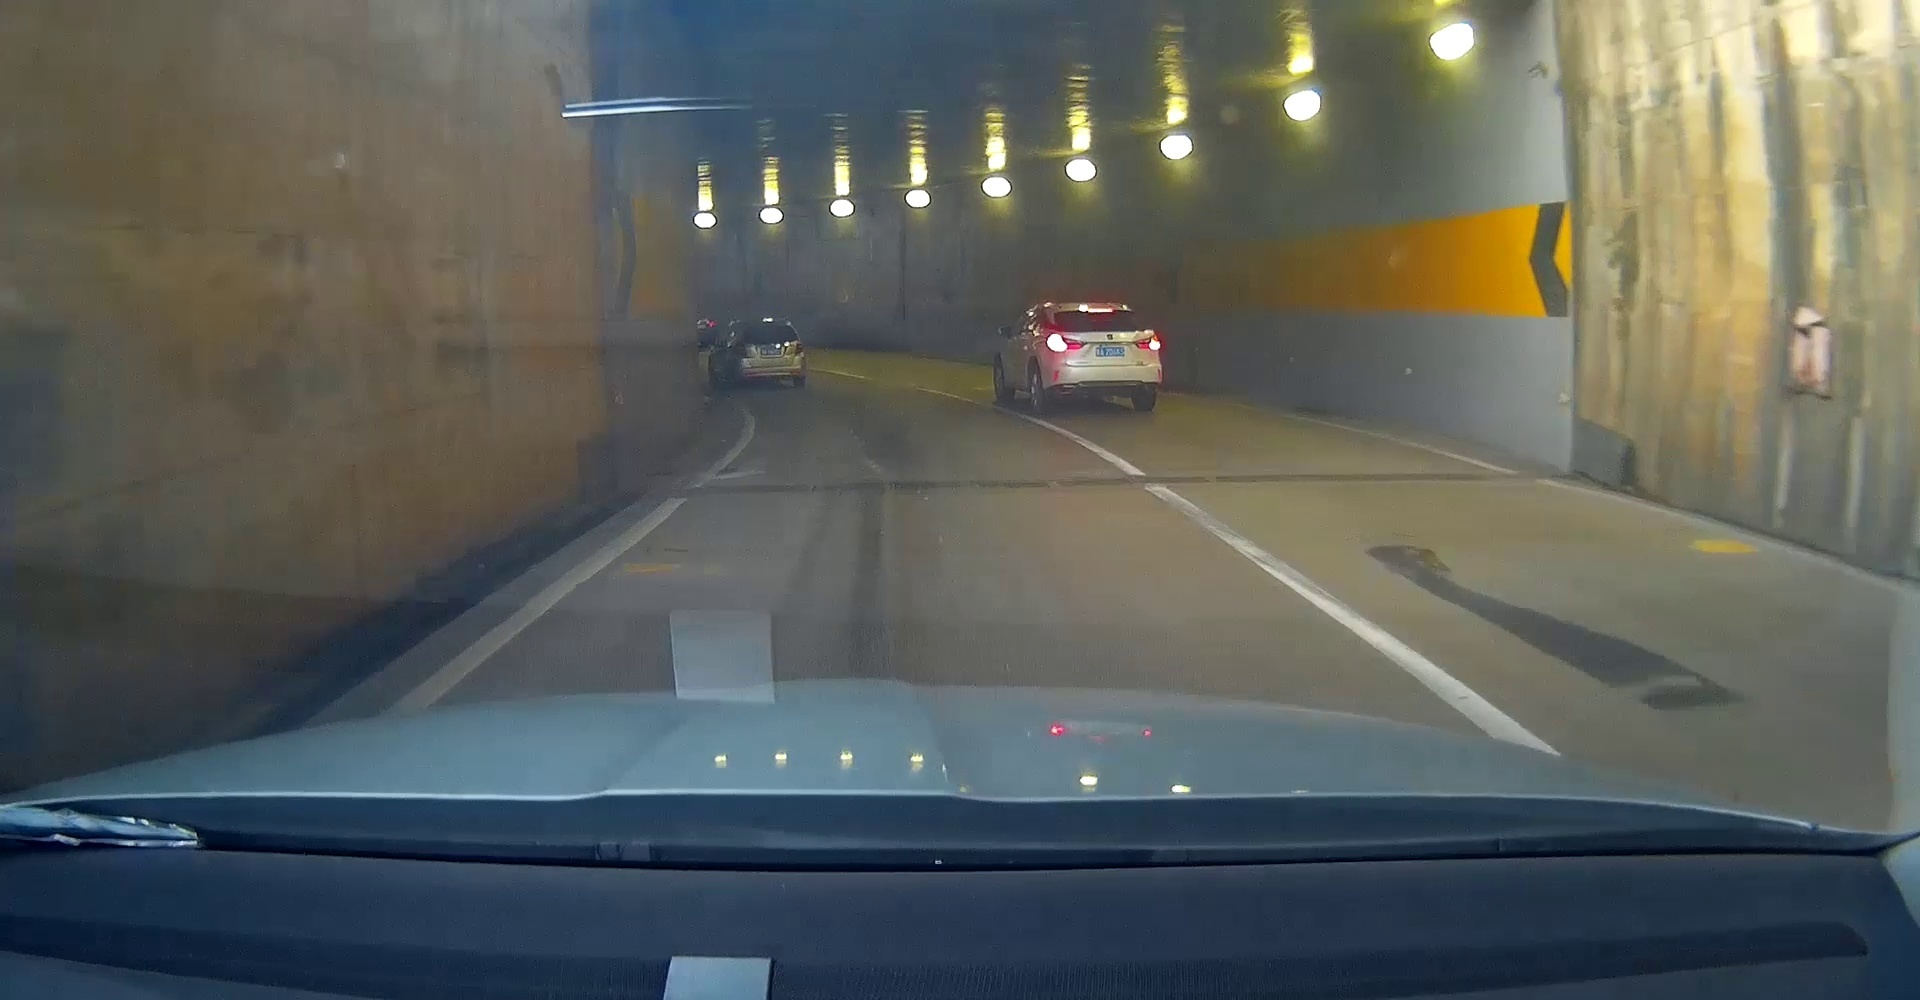L_light: (1046, 334, 1088, 352), (734, 343, 747, 357)
R_light: (1134, 334, 1161, 352), (794, 341, 804, 357)
T_light: (1088, 308, 1112, 313), (762, 324, 775, 326)
day-brake: (1041, 302, 1162, 414)
day-no: (731, 319, 805, 391)
